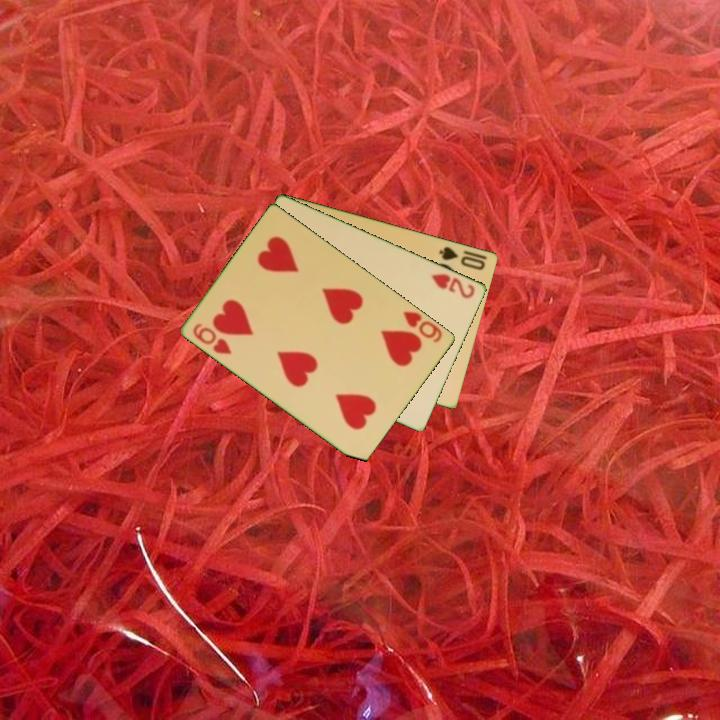10s: (436, 242, 488, 273)
2h: (428, 270, 478, 301)
6h: (400, 307, 445, 345), (190, 320, 235, 357)
